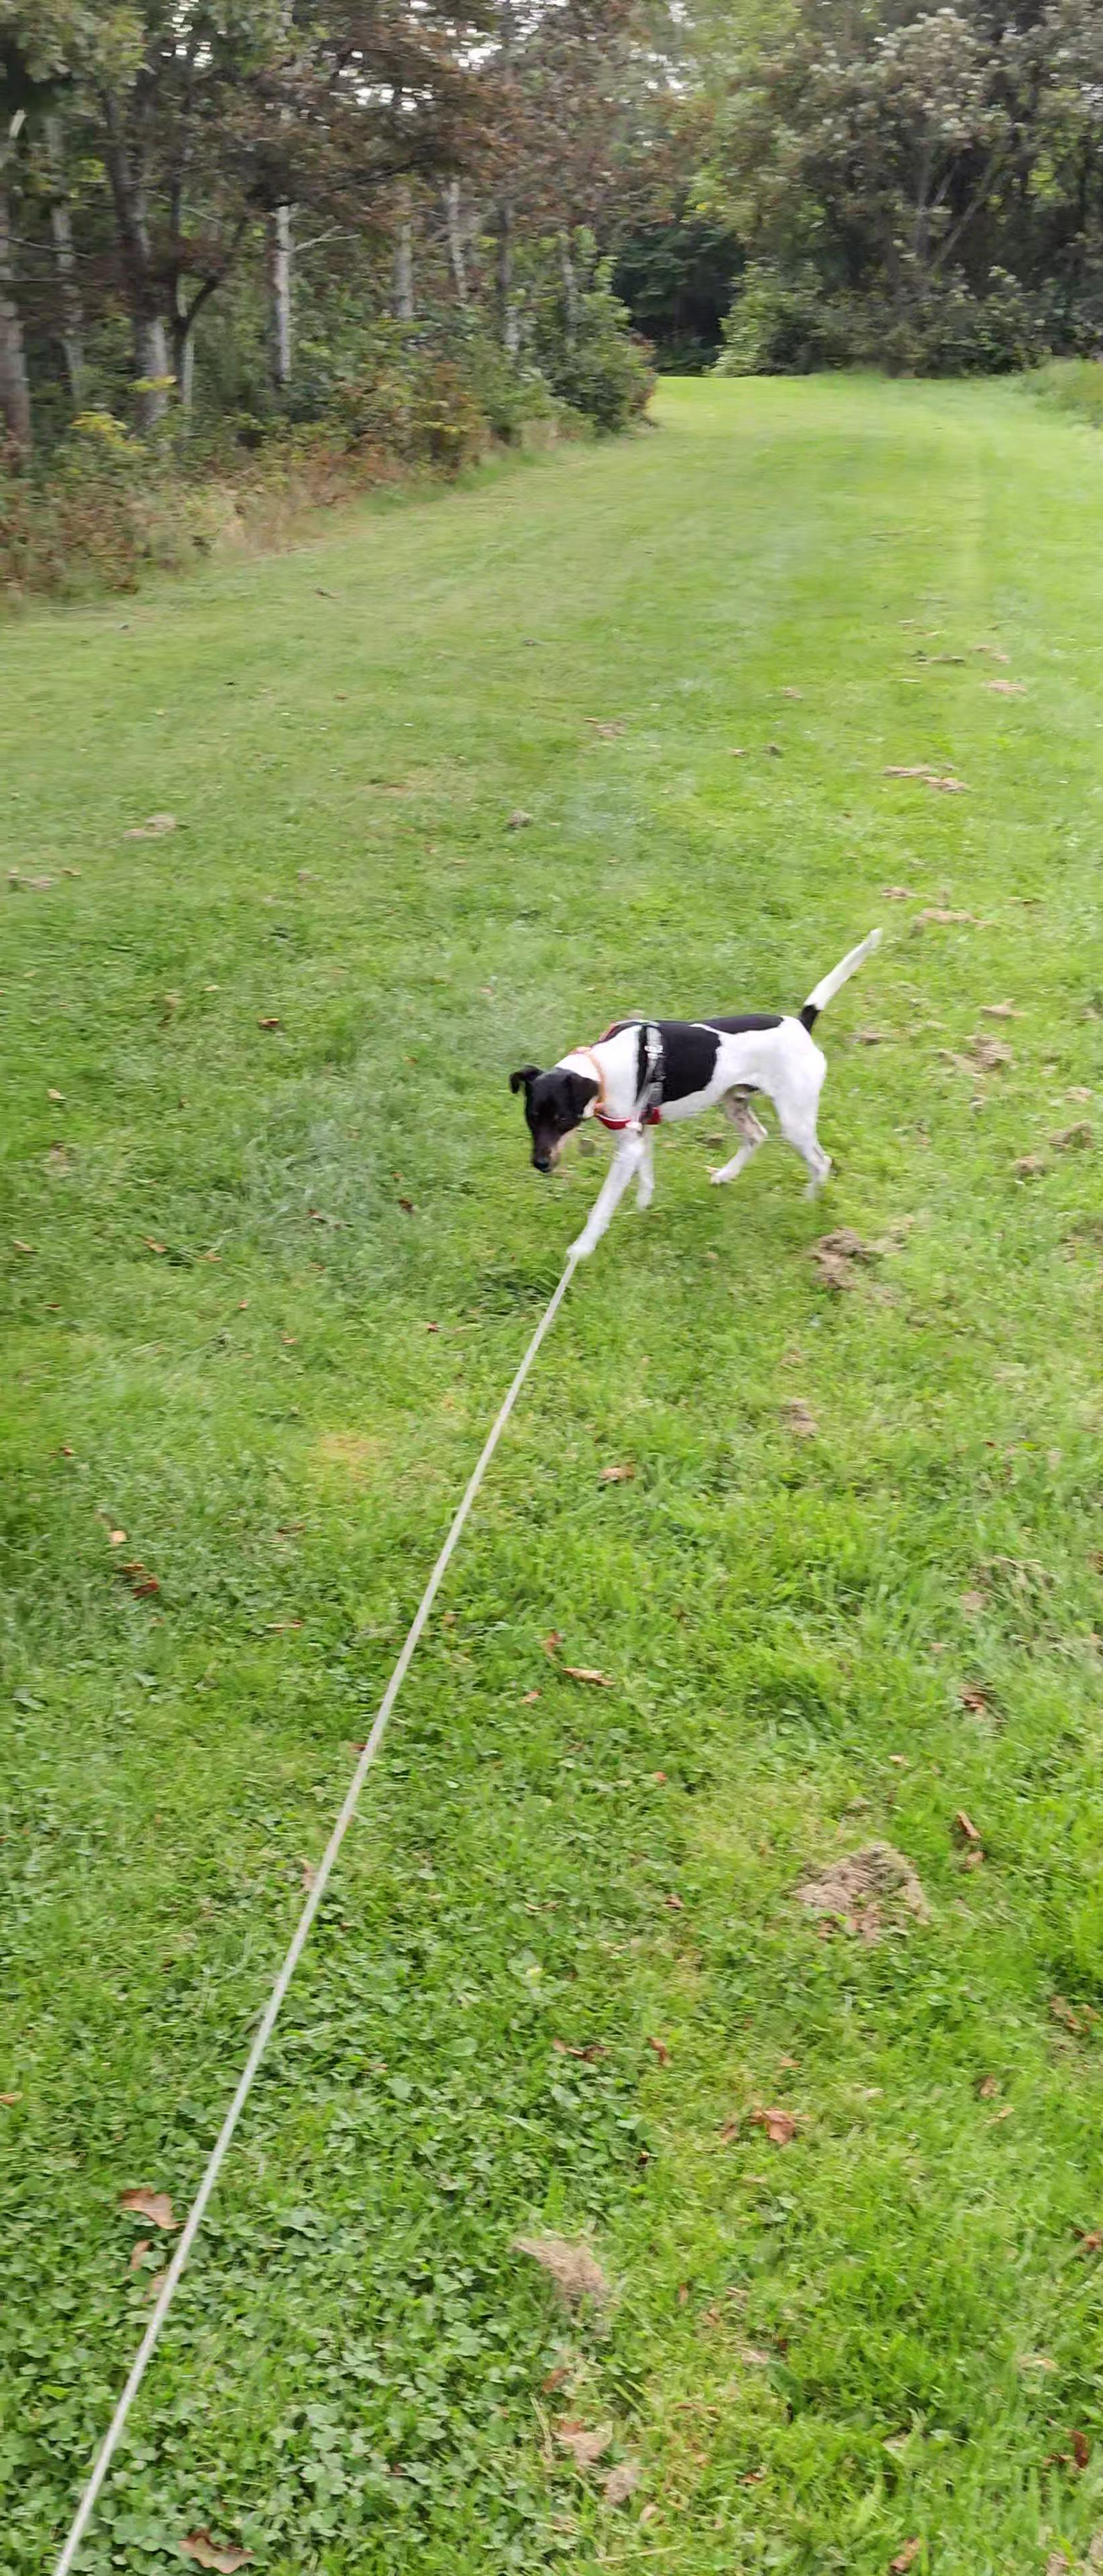Dog: (510, 915, 894, 1265)
